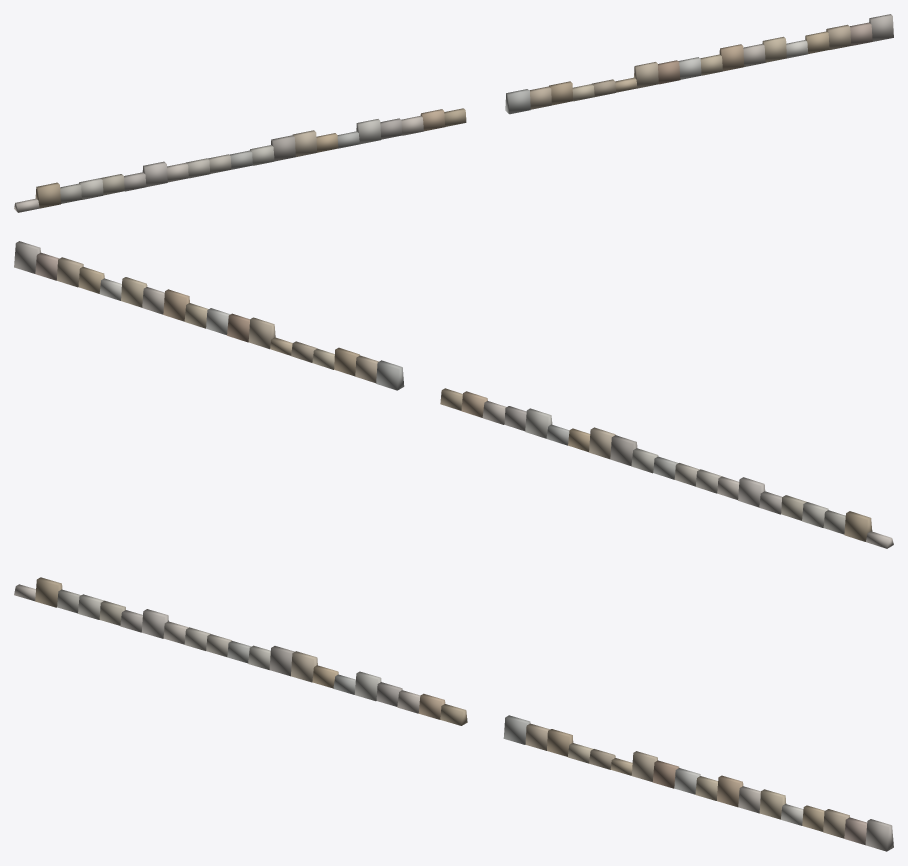
The model's file is farm_14_21_collision.glb.
3 renders of one model, top to bottom at view 1: azimuth 30°, elevation 25°; view 2: azimuth 150°, elevation 25°; view 3: azimuth 330°, elevation 25°, orthographic. The views are drawn at different scales.
Visible parts, largest first — view 1: geometry_0; view 2: geometry_0; view 3: geometry_0.
Boxes of the visible parts, <box> form: geometry_0: <box>14,14,893,212</box>; geometry_0: <box>14,241,893,548</box>; geometry_0: <box>14,577,893,851</box>.
Size of the model in its own units: 64.81 by 2.39 by 7.64.
